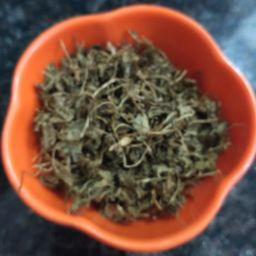Fenugeek (dried): (31, 133, 227, 217), (39, 59, 140, 213), (137, 43, 236, 191), (63, 42, 192, 113)
